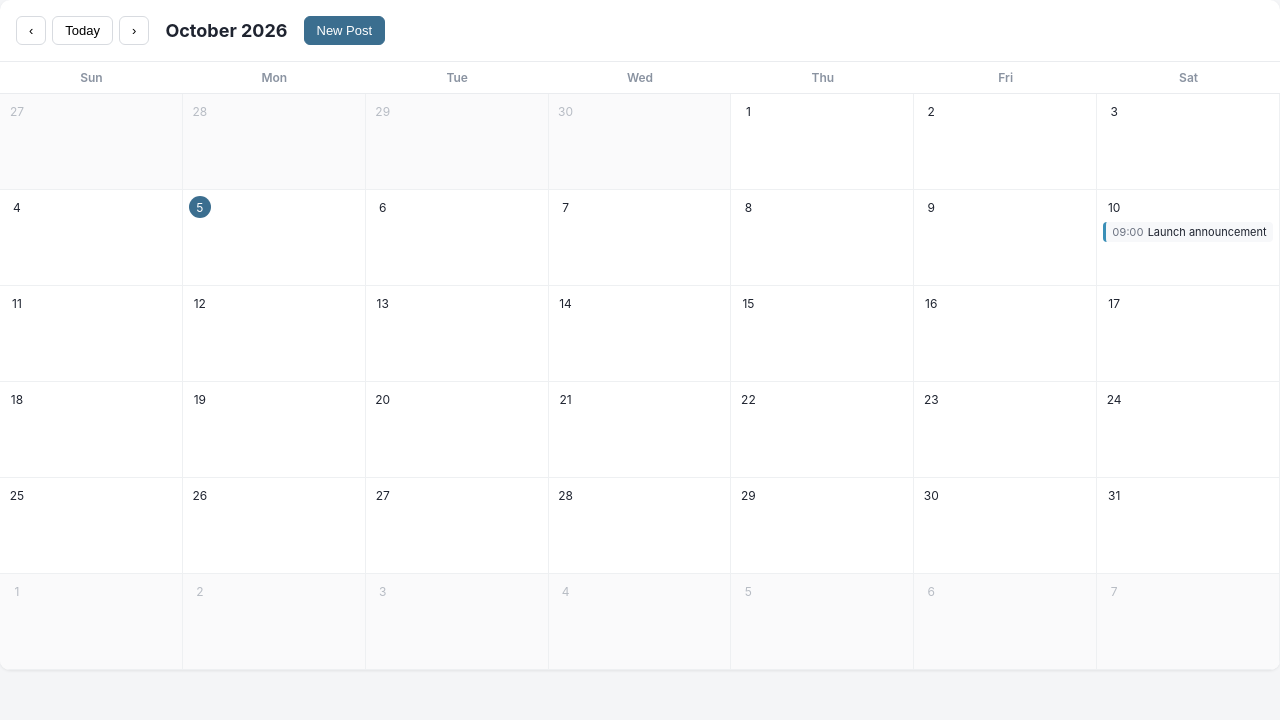
Scenario: Calendar › editing and saving updates the post title on the calendar
This screenshot has width=1280, height=720.
Click the element with test id "post-event-post-1" at (1188,232), box [1103,222,1273,242]
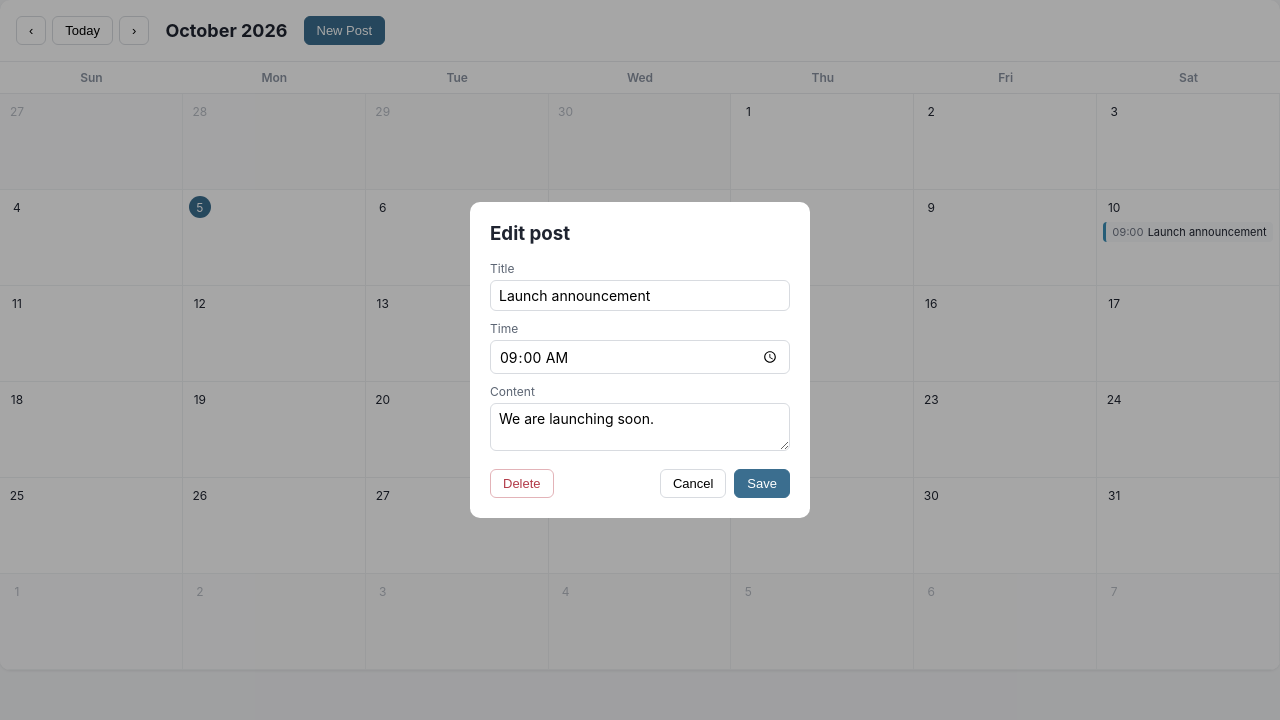
Replace the text in the field showing "Launch announcement" with "Updated launch post" at (640,295), box [490,280,790,311]
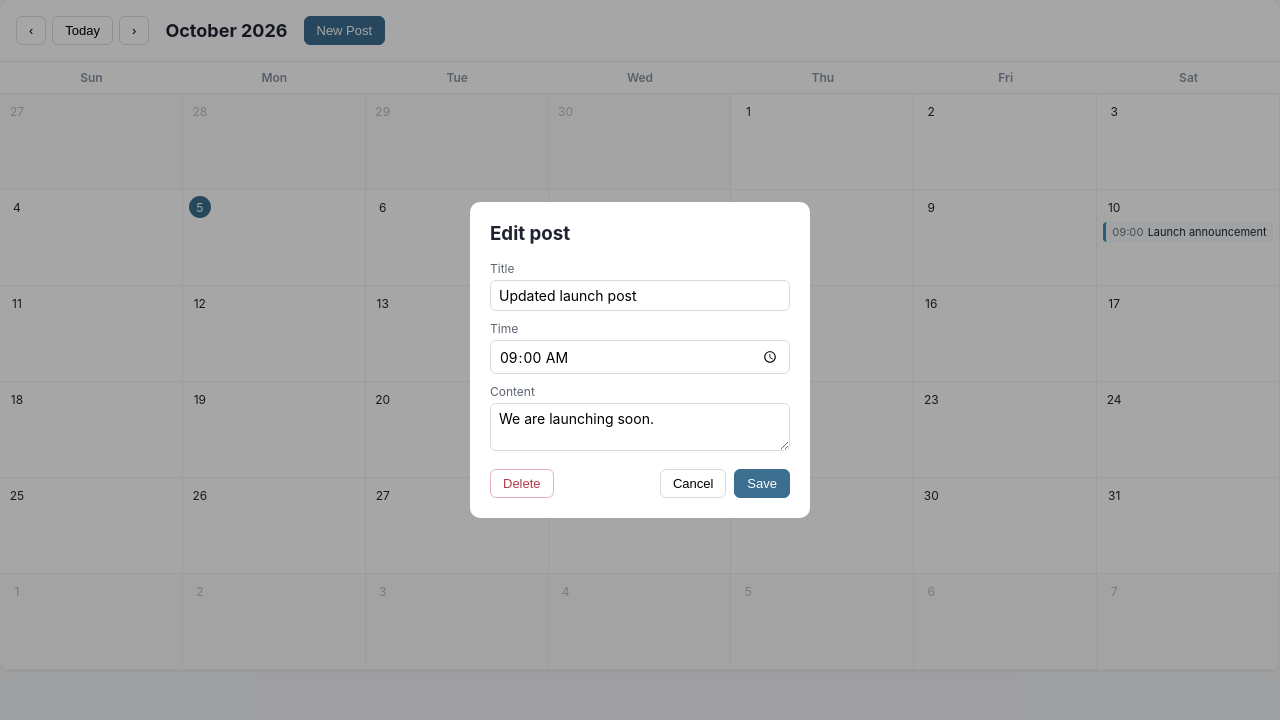
Click the button "Save" at (762,484), box [734,469,790,498]
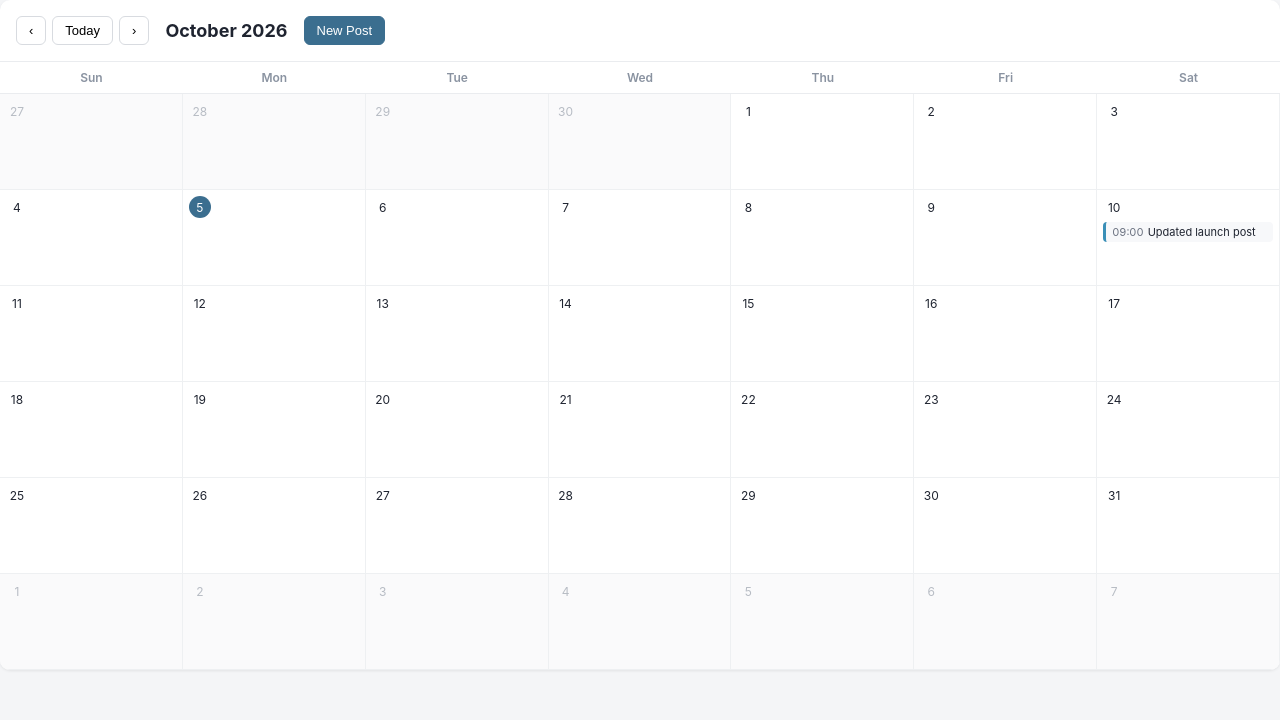
Expected: the text "Updated launch post" is shown, [1148,225,1256,239]
